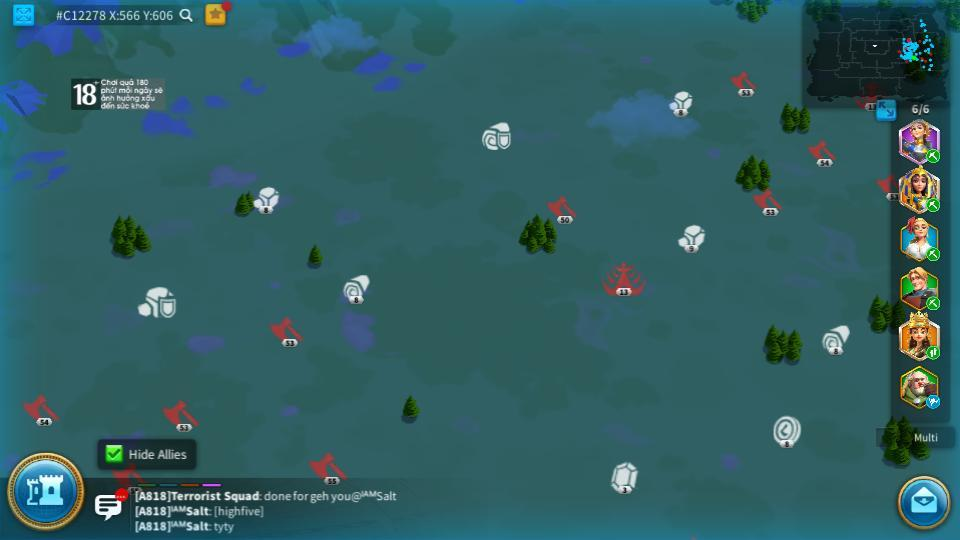gem-z-out: (609, 463, 639, 490)
march_farming: (925, 250, 941, 261)
march_idle: (925, 396, 942, 408)
march_marching: (925, 197, 941, 212), (925, 347, 941, 359), (925, 150, 941, 162), (925, 297, 941, 308)
